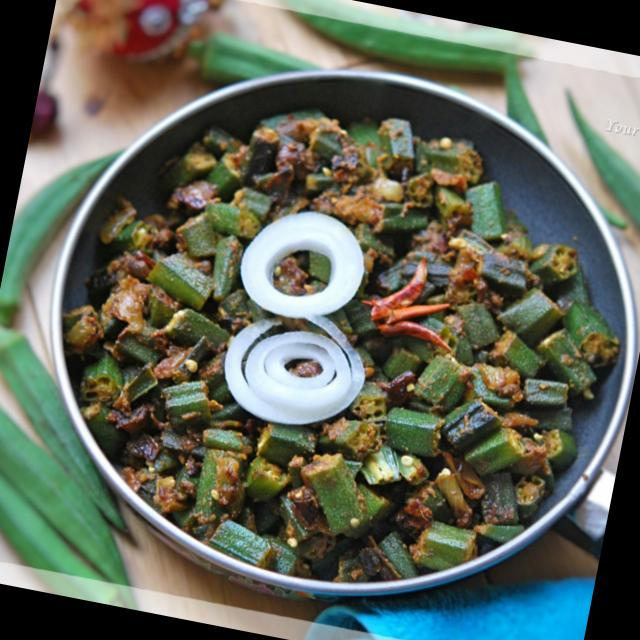BhindiMasala: (25, 62, 640, 628)
